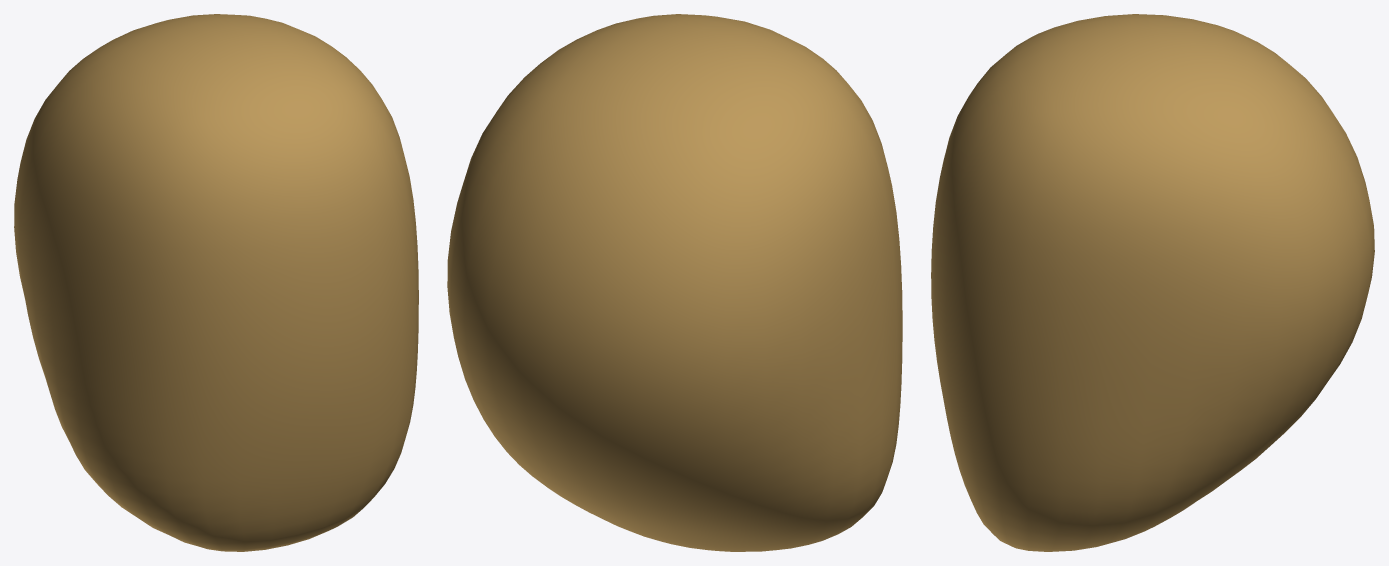
Rendered from head_head_011.gltf.
3 renders of one model, left to right at view 1: azimuth 30°, elevation 25°; view 2: azimuth 150°, elevation 25°; view 3: azimuth 270°, elevation 25°, orthographic. The views are drawn at different scales.
Visible parts, largest first — view 1: head.011; view 2: head.011; view 3: head.011.
Part boxes in pixels (x1,y1,x2,y2): head.011: [14, 14, 418, 551]; head.011: [447, 14, 902, 551]; head.011: [931, 14, 1374, 551].
Bounding box in the file's own units: 0.1451 × 0.1951 × 0.1607.
